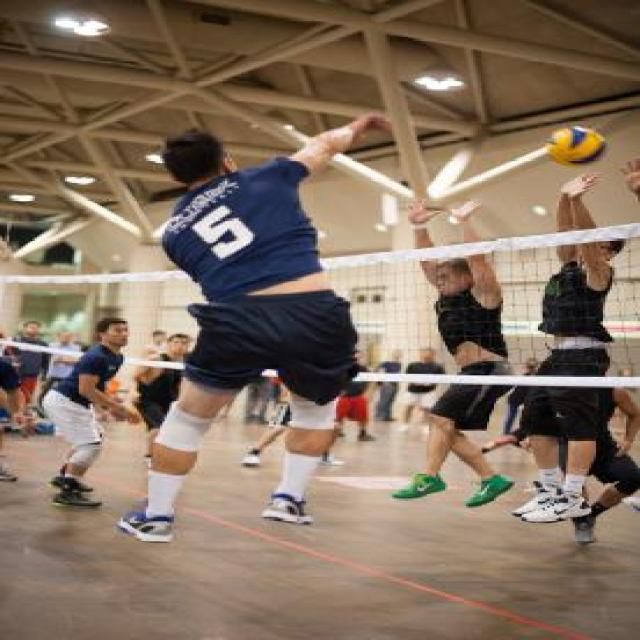volleyball: (546, 126, 606, 165)
